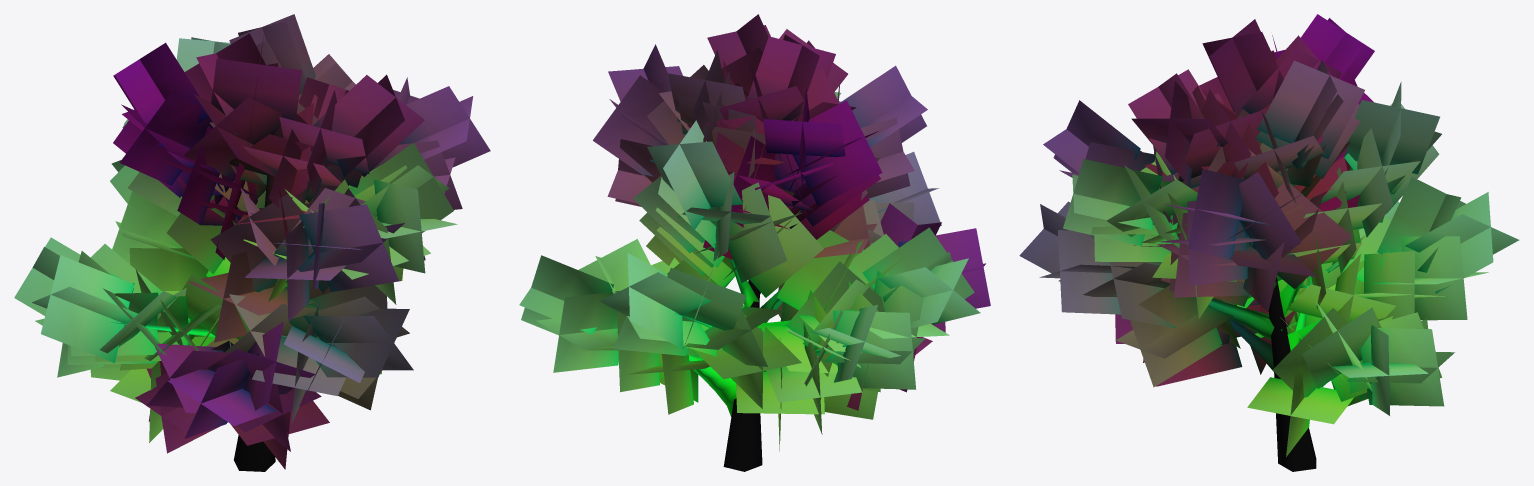
File: URP_Tree_1_LOD_3.fbx
The picture shows the model from 3 angles, left to right: view 1: azimuth 30°, elevation 25°; view 2: azimuth 150°, elevation 25°; view 3: azimuth 270°, elevation 25°; orthographic projection. The views are drawn at different scales.
Visible parts, largest first — view 1: Tree_1_LOD_3; view 2: Tree_1_LOD_3; view 3: Tree_1_LOD_3.
Boxes of the visible parts, box(x1,y1,x2,y2) form: Tree_1_LOD_3: box(14, 14, 490, 471); Tree_1_LOD_3: box(519, 14, 990, 471); Tree_1_LOD_3: box(1019, 14, 1519, 471).
Bounding box in the file's own units: 585 × 588 × 624.
